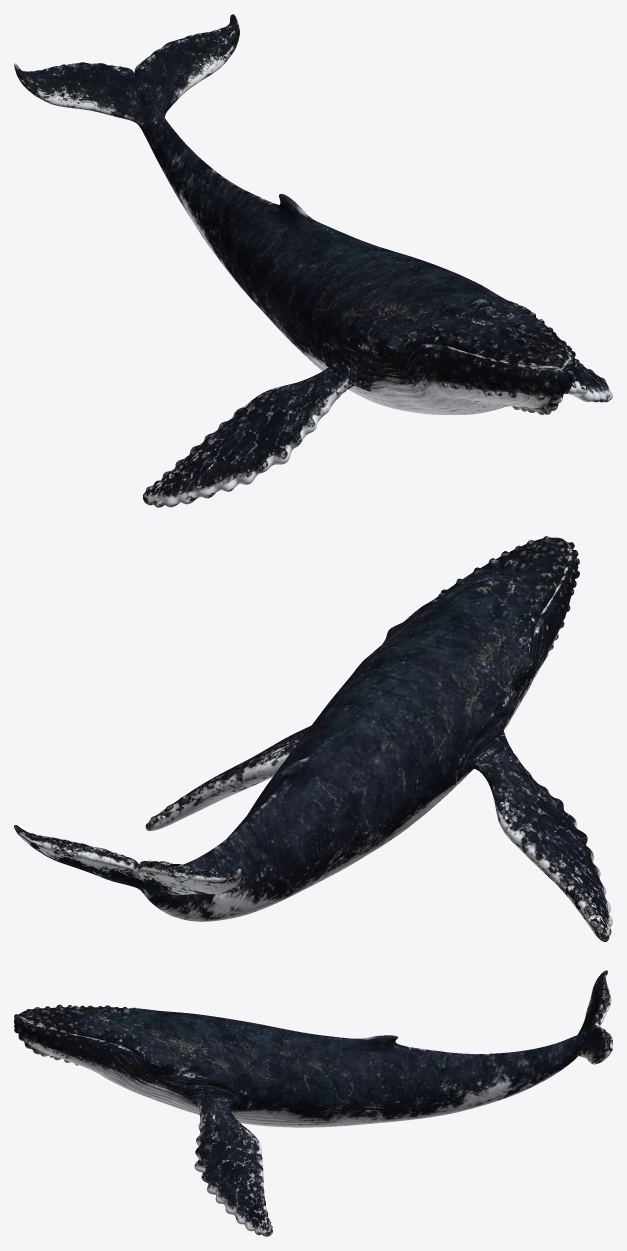
File: humpback-whale-light.glb
3 renders of one model, top to bottom at view 1: azimuth 30°, elevation 25°; view 2: azimuth 150°, elevation 25°; view 3: azimuth 270°, elevation 25°, orthographic. The views are drawn at different scales.
Parts seen in each view (by area): view 1: humpback-whale; view 2: humpback-whale; view 3: humpback-whale.
Boxes of the visible parts, x1=… form: humpback-whale: x1=14, y1=14, x2=612, y2=507; humpback-whale: x1=14, y1=536, x2=612, y2=941; humpback-whale: x1=14, y1=970, x2=612, y2=1236.
Size of the model in its own units: 8.47 by 3.97 by 14.
Materials: 1 (1 with a texture image).
